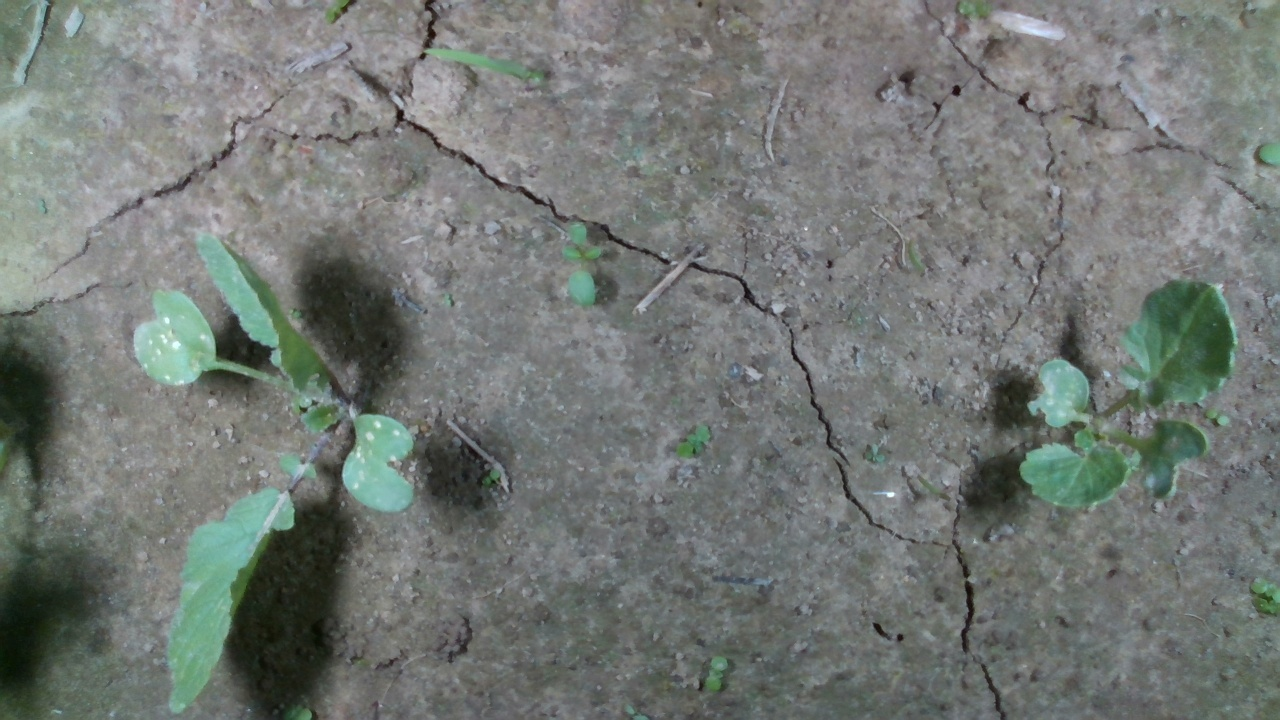weed: (558, 221, 604, 309), (675, 424, 712, 460), (704, 653, 729, 694), (1204, 407, 1231, 428), (480, 469, 501, 486)
